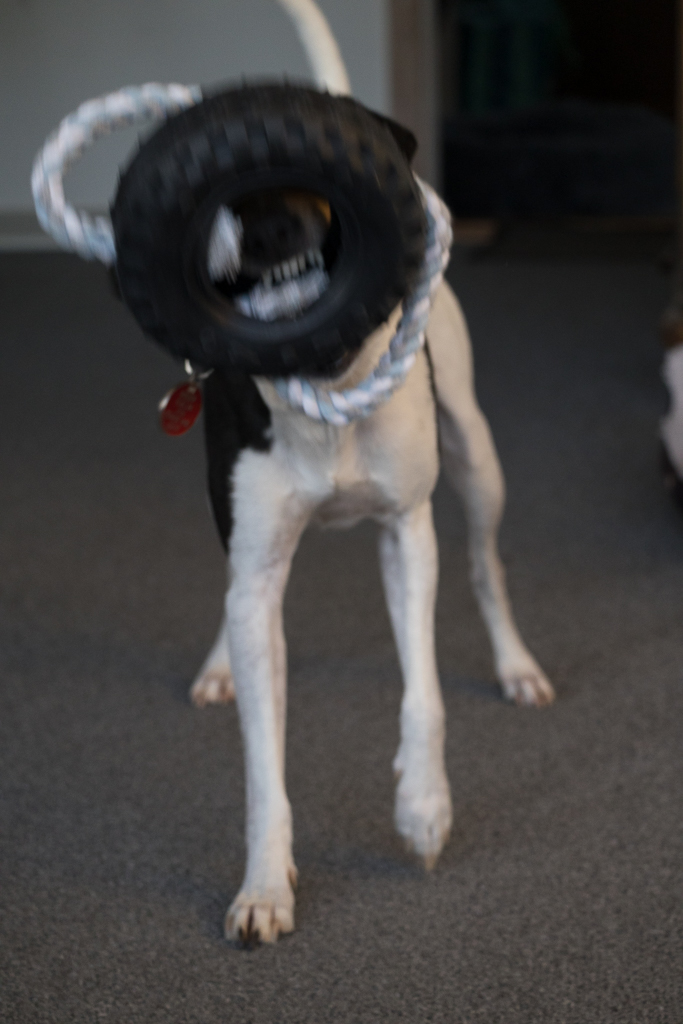Dog: (147, 0, 590, 963)
